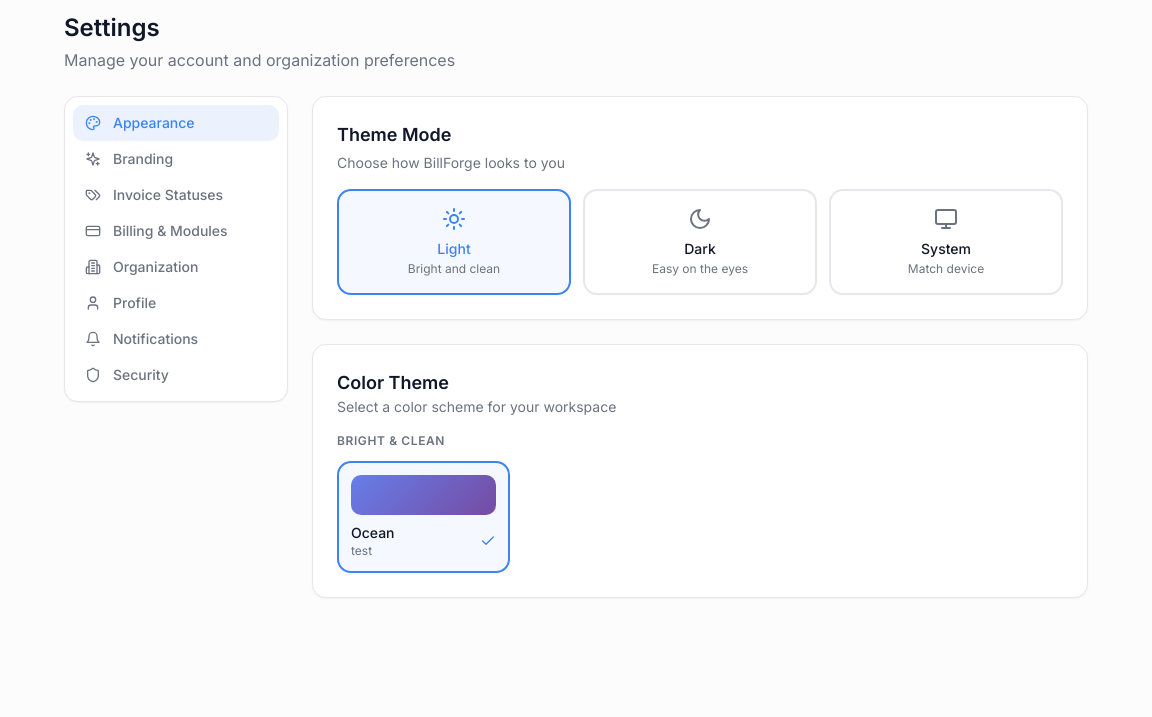
Test: Settings page - non-persistent controls › Security tab › disables password fields and Update Password button
Click the button "Security" at (176, 375), box [73, 357, 279, 393]
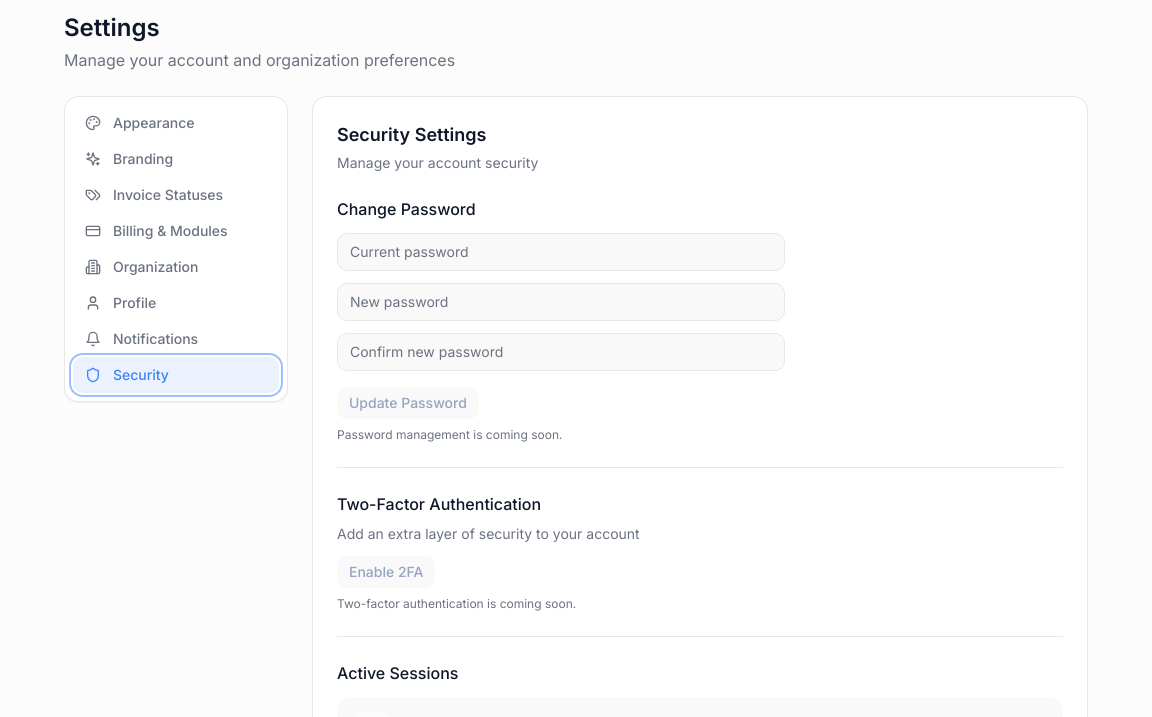
Expected: the password field with placeholder "Current password" is disabled, [337, 233, 785, 271]
Expected: the password field with placeholder "New password" is disabled, [337, 283, 785, 321]
Expected: the password field with placeholder "Confirm new password" is disabled, [337, 333, 785, 371]
